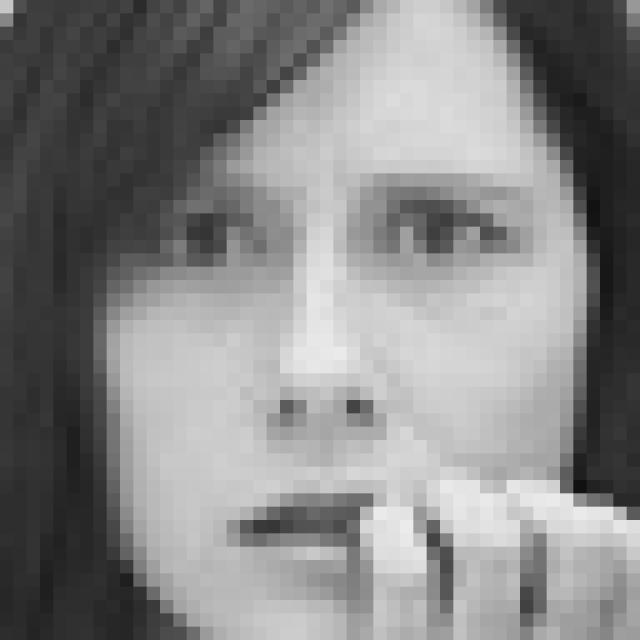fear: (148, 157, 538, 575)
